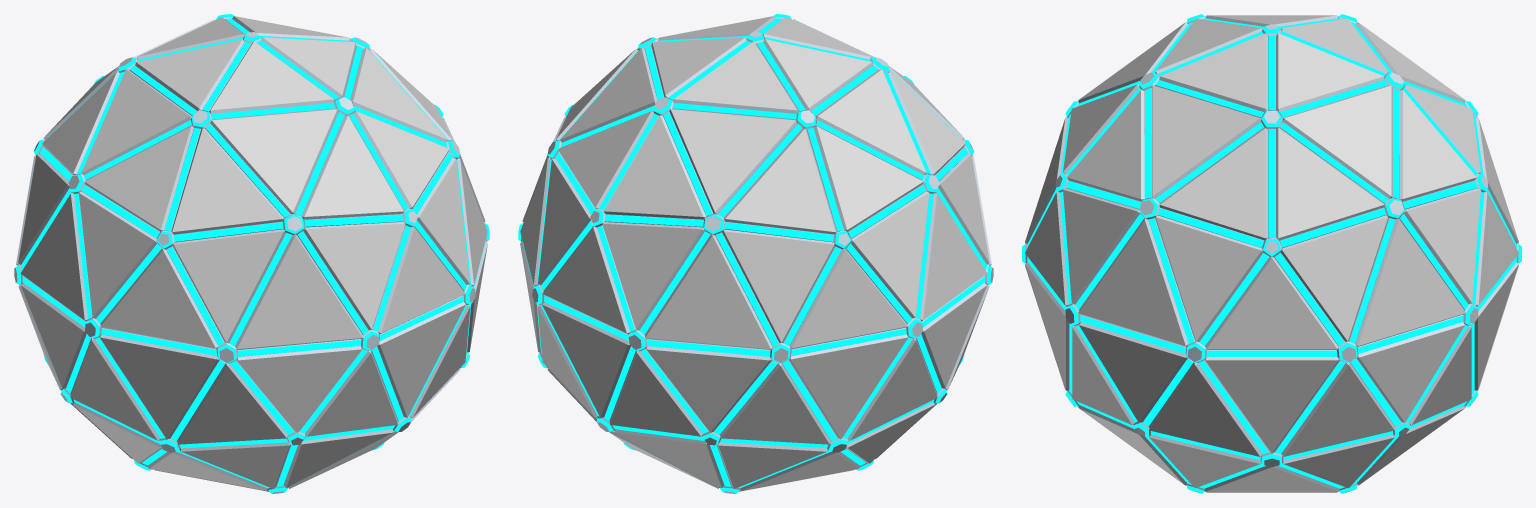
File: Hex2.fbx
The picture shows the model from 3 angles, left to right: view 1: azimuth 30°, elevation 25°; view 2: azimuth 150°, elevation 25°; view 3: azimuth 270°, elevation 25°; orthographic projection. The views are drawn at different scales.
Parts seen in each view (by area): view 1: Icosphere.001; view 2: Icosphere.001; view 3: Icosphere.001.
Boxes of the visible parts, x1,y1,x2,y2 form: Icosphere.001: [14, 14, 489, 493]; Icosphere.001: [518, 14, 993, 493]; Icosphere.001: [1022, 14, 1521, 493].
Bounding box in the file's own units: 195 × 203 × 203.
